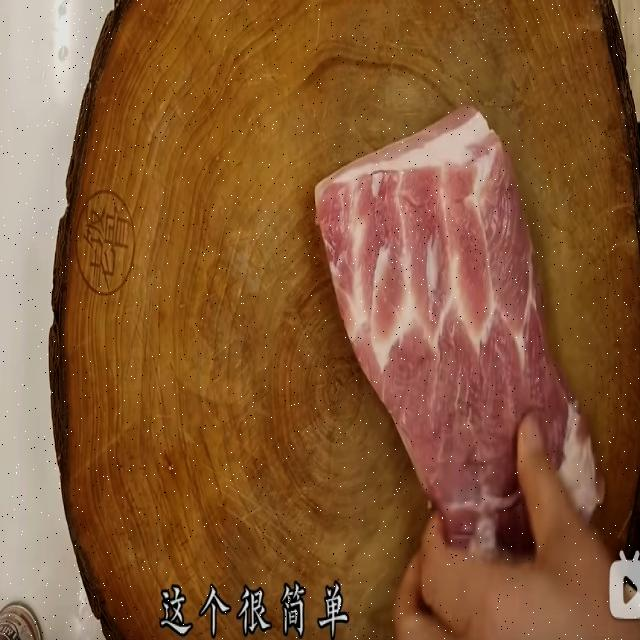meat: (313, 103, 601, 563)
